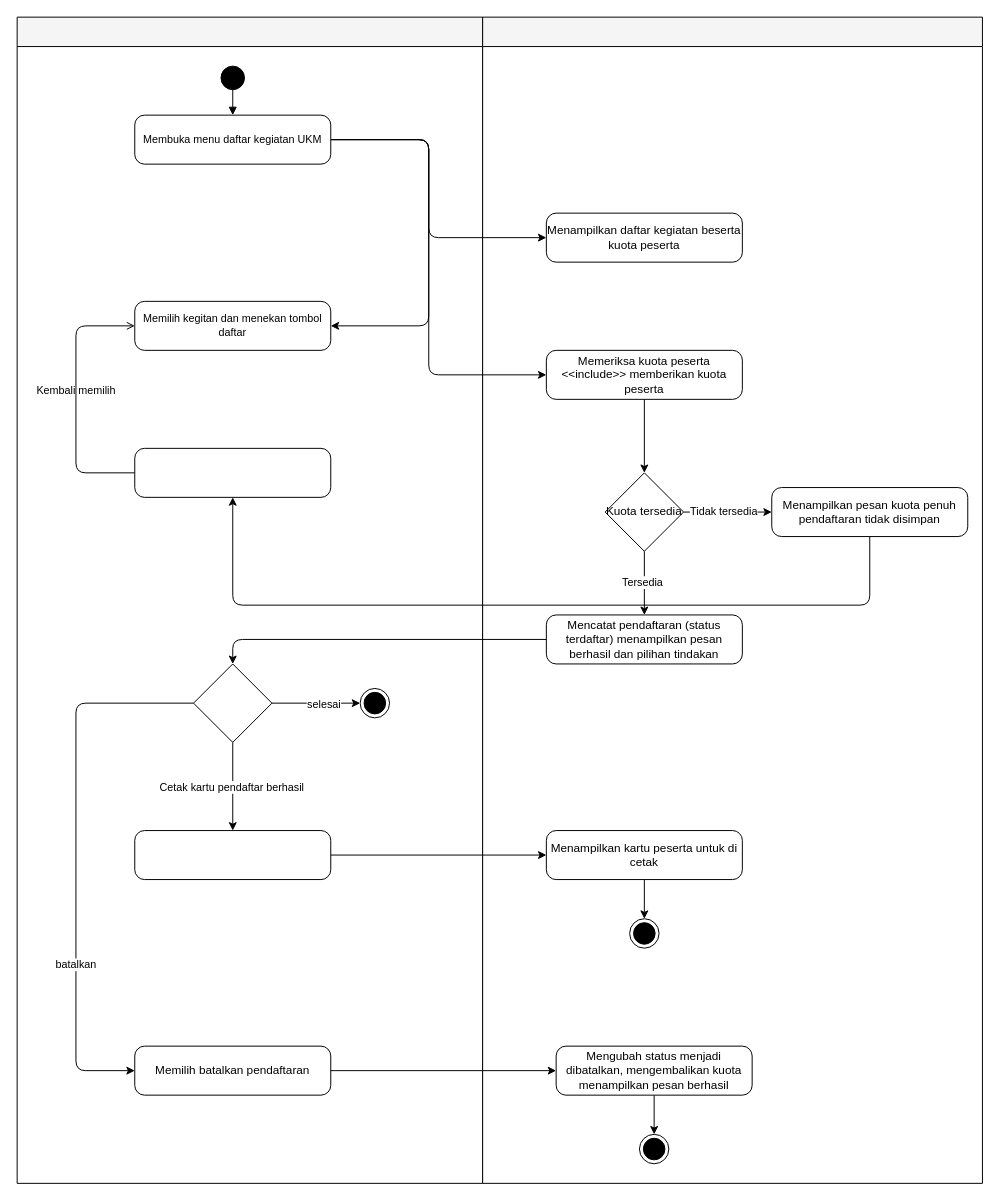
This 1000x1201 diagram has some shape labels left out. The box of each missing label's shape, as (x1, y1, x2, y2) in pixels:
Memilih cetak kartu peserta: (134, 830, 331, 880)
Memilih kegiatan lain: (134, 447, 331, 497)
Peserta (Mahsiswa/Dosen): (16, 16, 483, 1183)
Pilihan peserta: (193, 663, 272, 742)
Sistem: (482, 16, 982, 1183)
